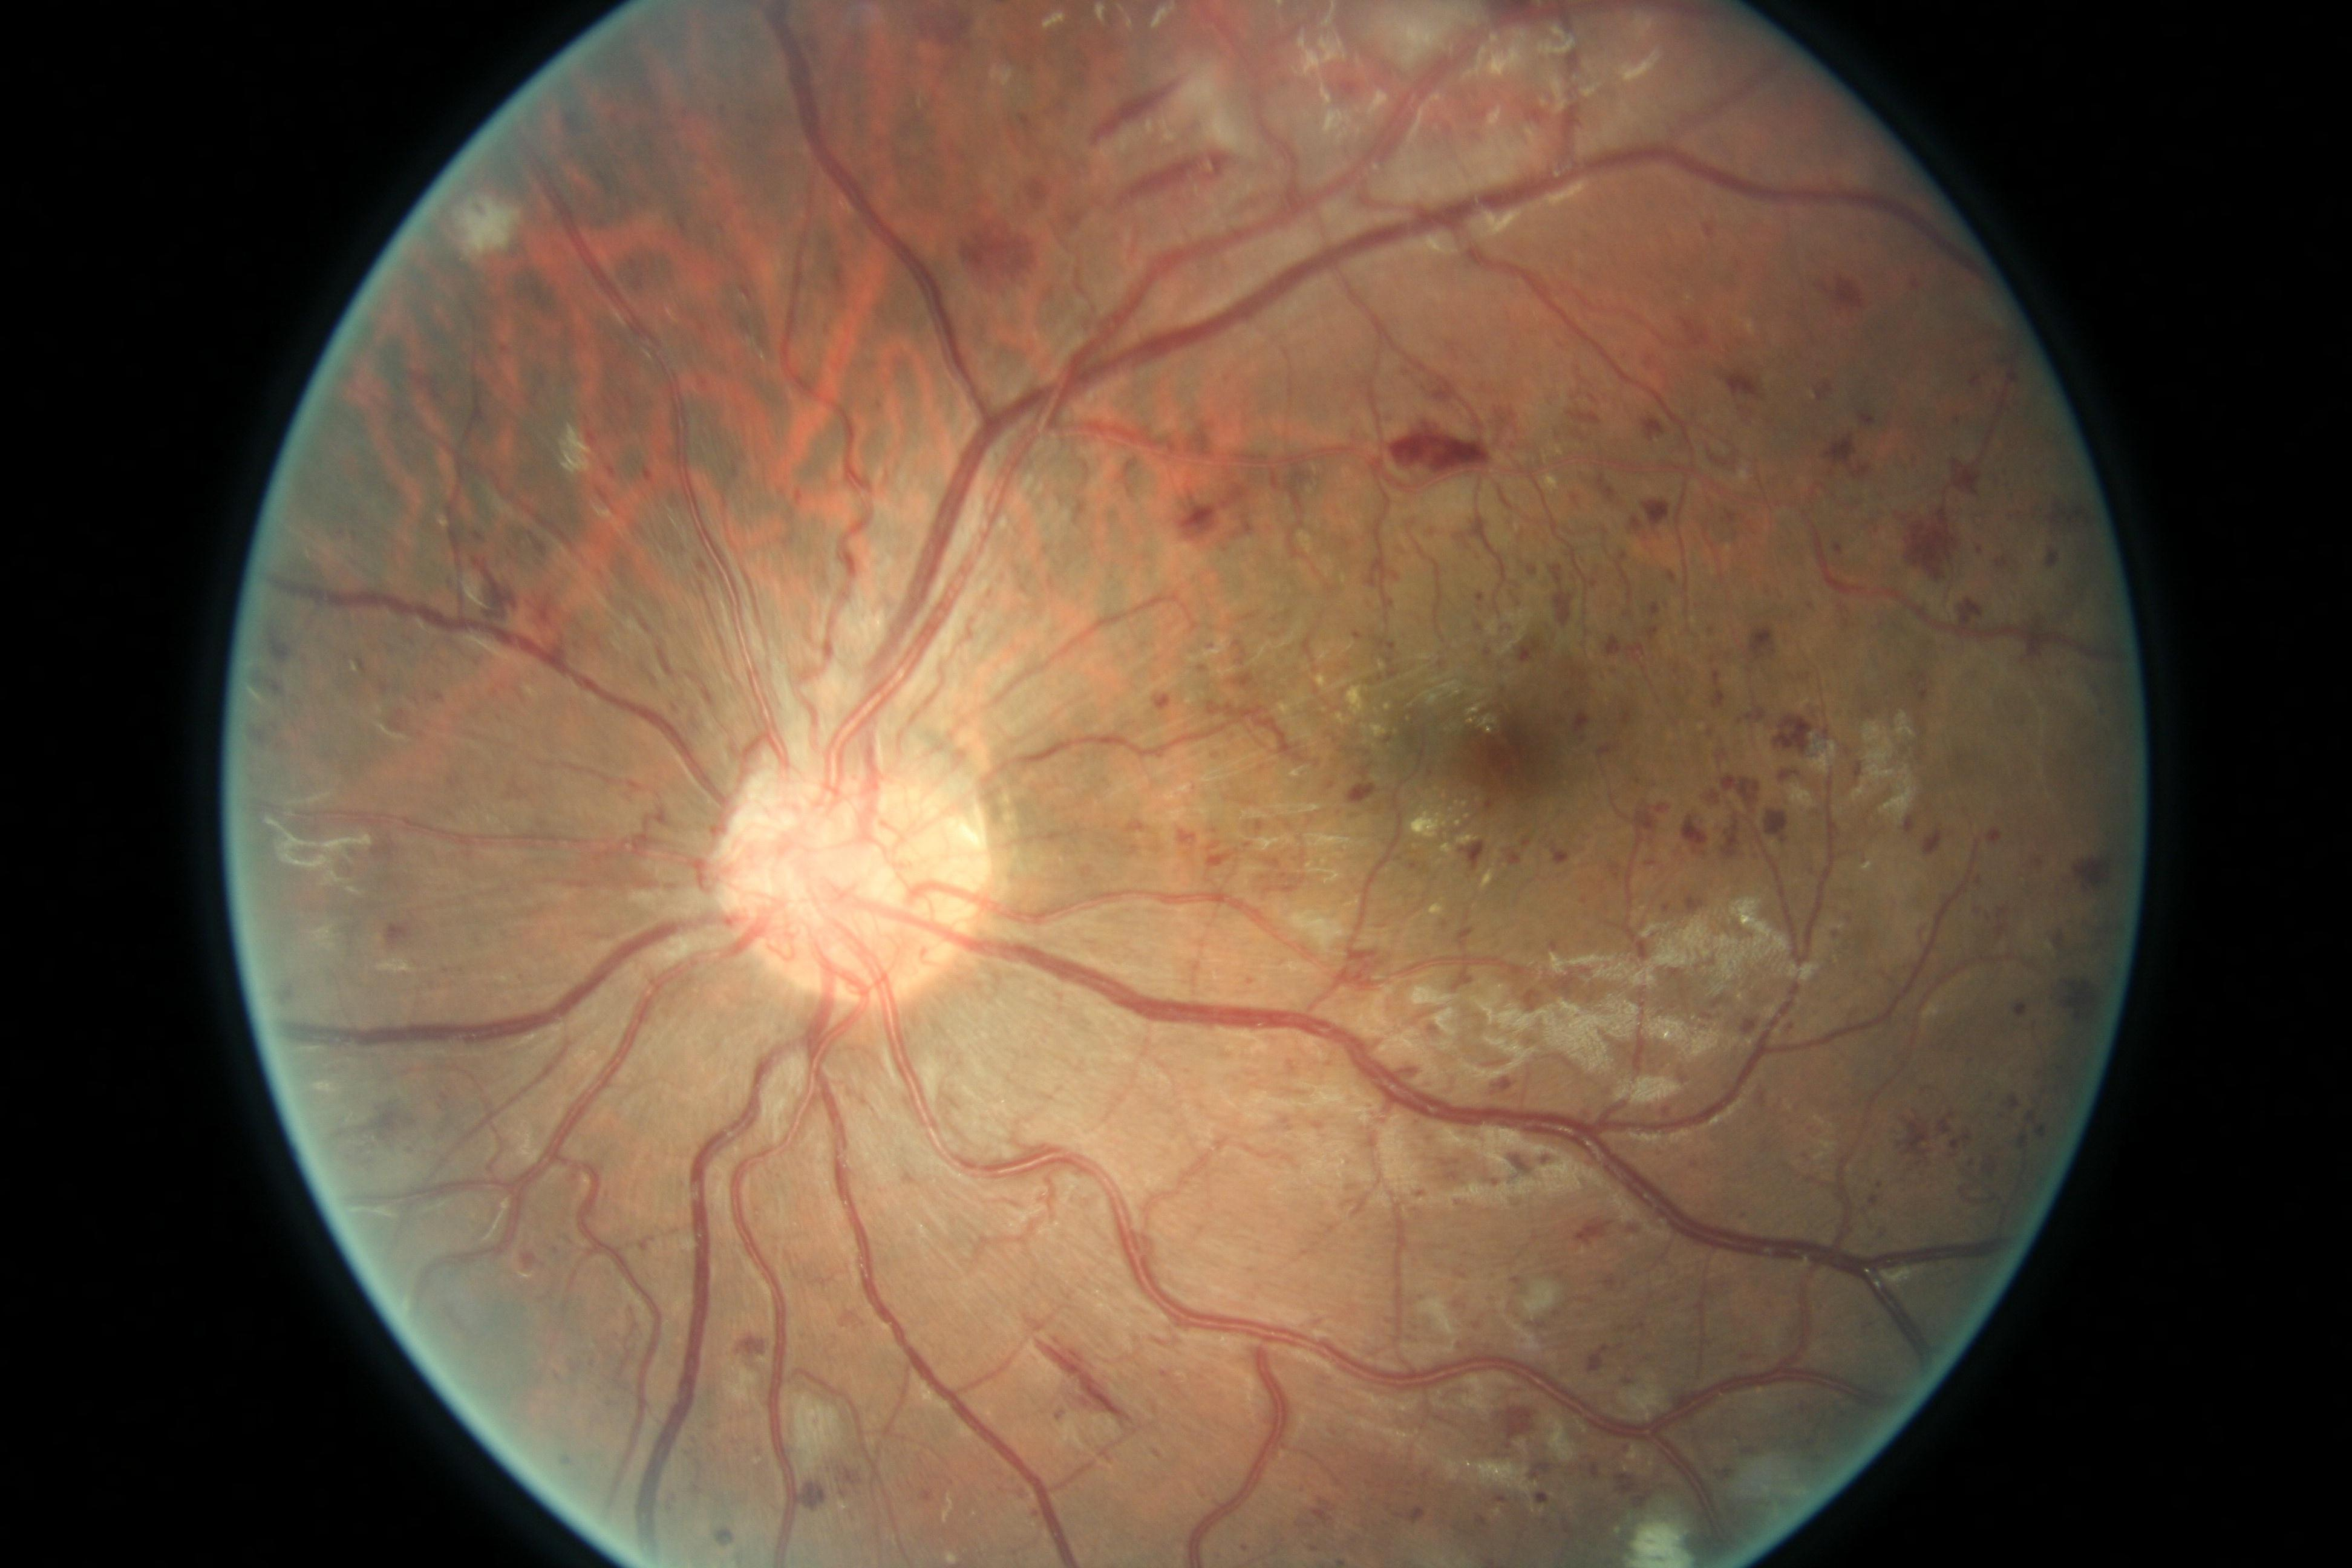Optic-nerve: (709, 700, 992, 1013)
macula: (1435, 693, 1584, 821)
